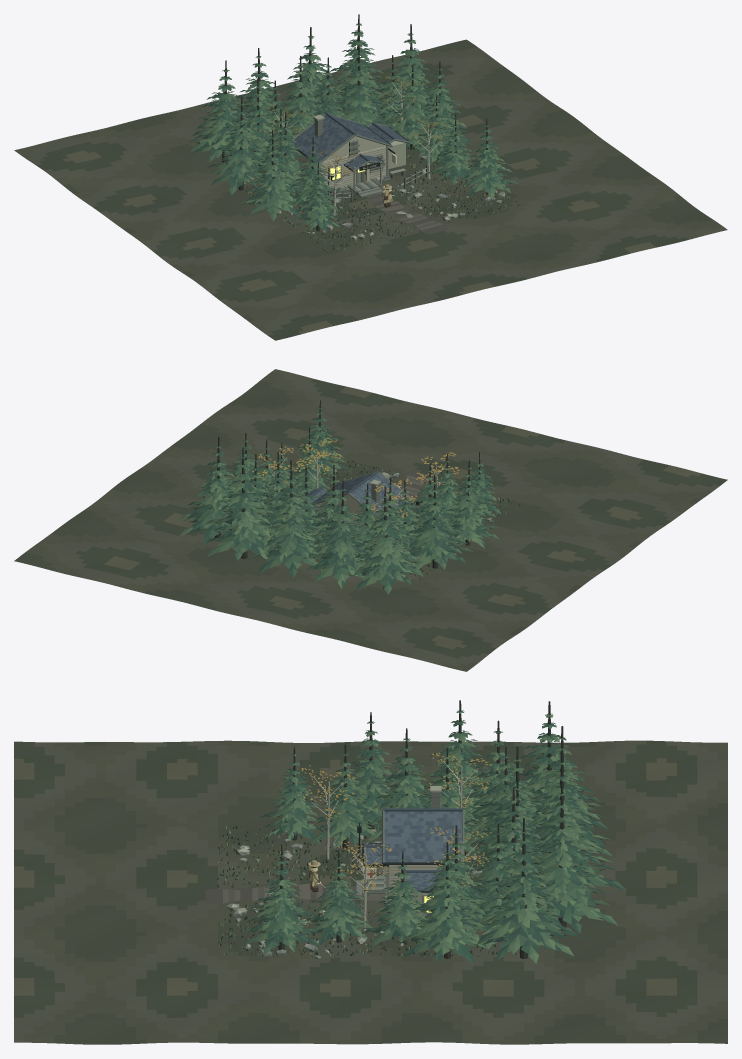
The model's file is forest-clinic.glb.
The picture shows the model from 3 angles, top to bottom: view 1: azimuth 30°, elevation 25°; view 2: azimuth 150°, elevation 25°; view 3: azimuth 270°, elevation 25°; orthographic projection. The views are drawn at different scales.
Parts seen in each view (by area): view 1: Ground, Forest, Undergrowth, Roof, Clinic, Porch, Props; view 2: Ground, Forest, Roof, Undergrowth; view 3: Ground, Forest, Roof, Undergrowth, Clinic, Porch.
Part boxes in pixels (<box>): Ground: <box>14,39,727,340</box>; Forest: <box>188,14,519,231</box>; Undergrowth: <box>219,142,521,252</box>; Roof: <box>291,112,410,163</box>; Clinic: <box>295,136,405,193</box>; Porch: <box>343,153,385,197</box>; Props: <box>327,164,448,223</box>; Ground: <box>14,369,727,671</box>; Forest: <box>178,400,500,594</box>; Roof: <box>294,470,415,516</box>; Undergrowth: <box>258,455,520,585</box>; Ground: <box>14,740,727,1044</box>; Forest: <box>241,700,626,963</box>; Roof: <box>382,786,465,892</box>; Undergrowth: <box>217,826,519,959</box>; Clinic: <box>362,843,443,919</box>; Porch: <box>356,842,386,896</box>.
Size of the model in its own units: 56 by 13.37 by 56.
